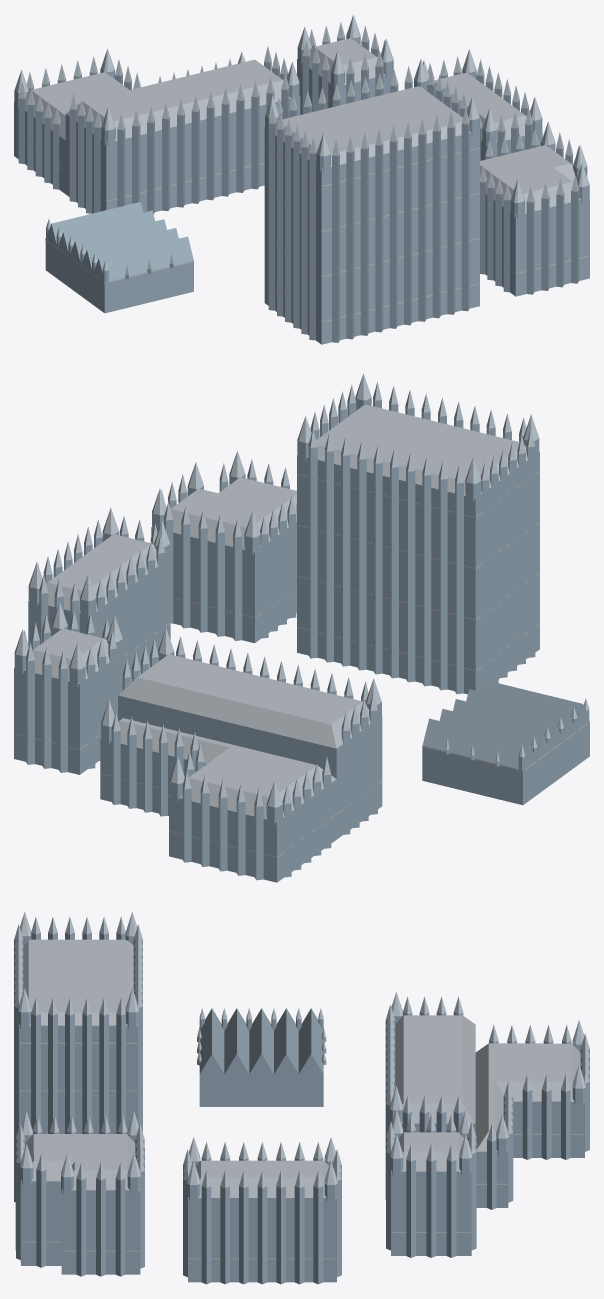
Rendered from pit-ppg-place-plaza.glb.
3 renders of one model, top to bottom at view 1: azimuth 30°, elevation 25°; view 2: azimuth 150°, elevation 25°; view 3: azimuth 270°, elevation 25°, orthographic. The views are drawn at different scales.
Parts seen in each view (by area): view 1: PPG Place; view 2: PPG Place; view 3: PPG Place.
Part boxes in pixels (x1=…): PPG Place: x1=14, y1=14, x2=589, y2=344; PPG Place: x1=14, y1=373, x2=589, y2=882; PPG Place: x1=14, y1=912, x2=589, y2=1284.
Size of the model in its own units: 161 by 74 by 176.
